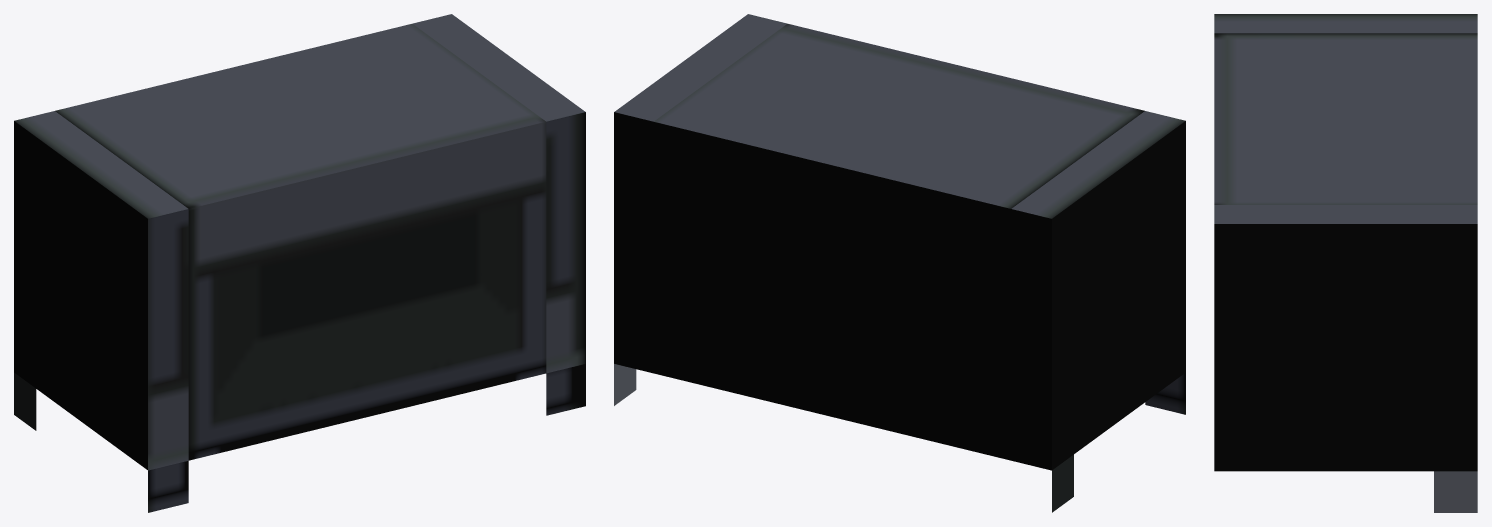
The model's file is Oven.fbx.
3 renders of one model, left to right at view 1: azimuth 30°, elevation 25°; view 2: azimuth 150°, elevation 25°; view 3: azimuth 270°, elevation 25°, orthographic.
Visible parts, largest first — view 1: Oven2; view 2: Oven2; view 3: Oven2.
Boxes of the visible parts, x1,y1,x2,y2 form: Oven2: [14, 14, 585, 512]; Oven2: [614, 14, 1185, 512]; Oven2: [1214, 14, 1477, 512].
Bounding box in the file's own units: 2 × 1.28 × 1.06.
